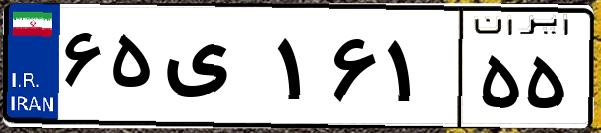1: (270, 28, 330, 110), (385, 28, 445, 110)
5: (475, 38, 525, 113), (525, 38, 570, 115), (110, 28, 158, 98)
6: (330, 28, 385, 110), (57, 26, 110, 100)
ی: (158, 20, 270, 120)
